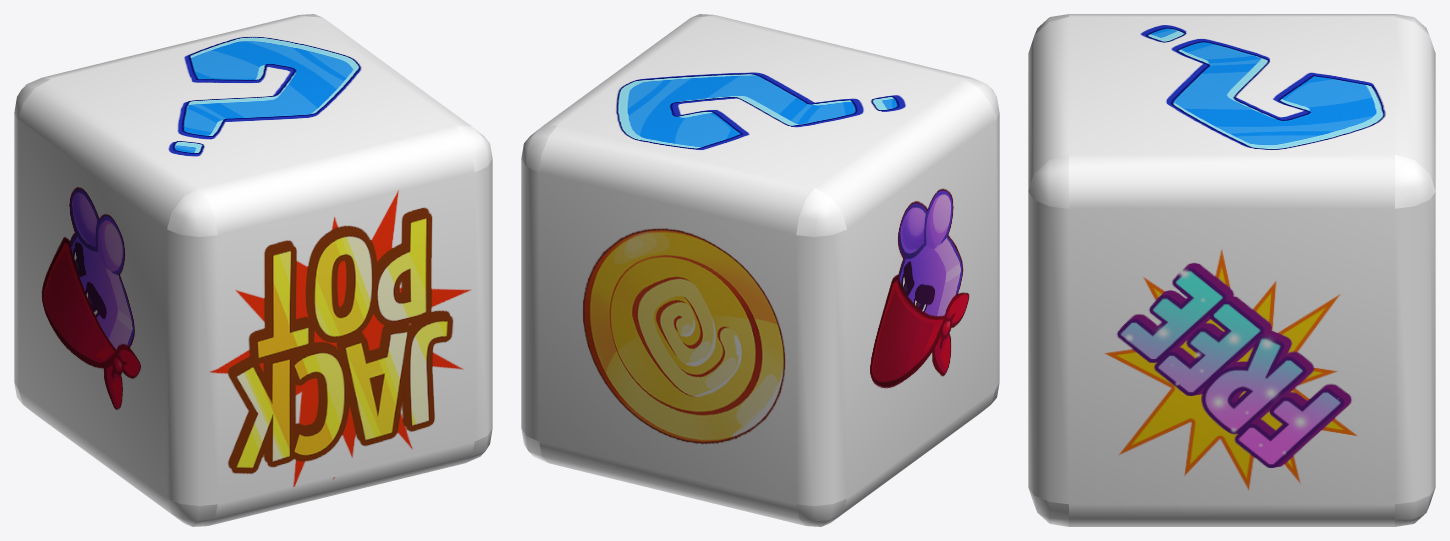
The model's file is SM_Dice.fbx.
3 views of the same model, side by side, from view 1: azimuth 30°, elevation 25°; view 2: azimuth 150°, elevation 25°; view 3: azimuth 270°, elevation 25° (orthographic). The views are drawn at different scales.
Visible parts, largest first — view 1: dice; view 2: dice; view 3: dice.
Boxes of the visible parts, x1=… form: dice: x1=14, y1=14, x2=492, y2=526; dice: x1=521, y1=14, x2=999, y2=526; dice: x1=1028, y1=14, x2=1435, y2=526.
Bounding box in the file's own units: 10000 × 10000 × 10000.
Materials: 1 (1 with a texture image).
